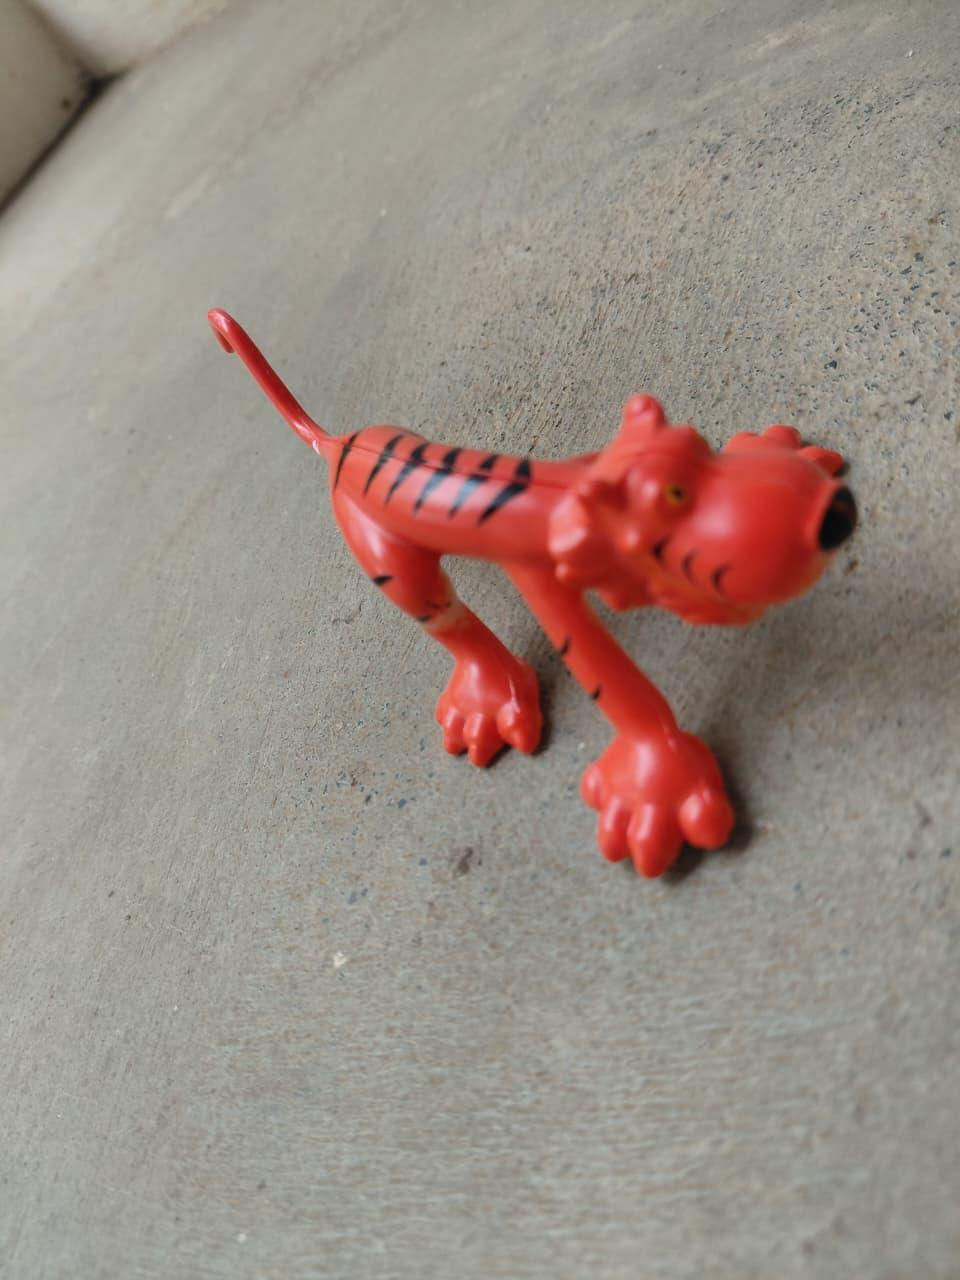tiger: (190, 273, 874, 871)
